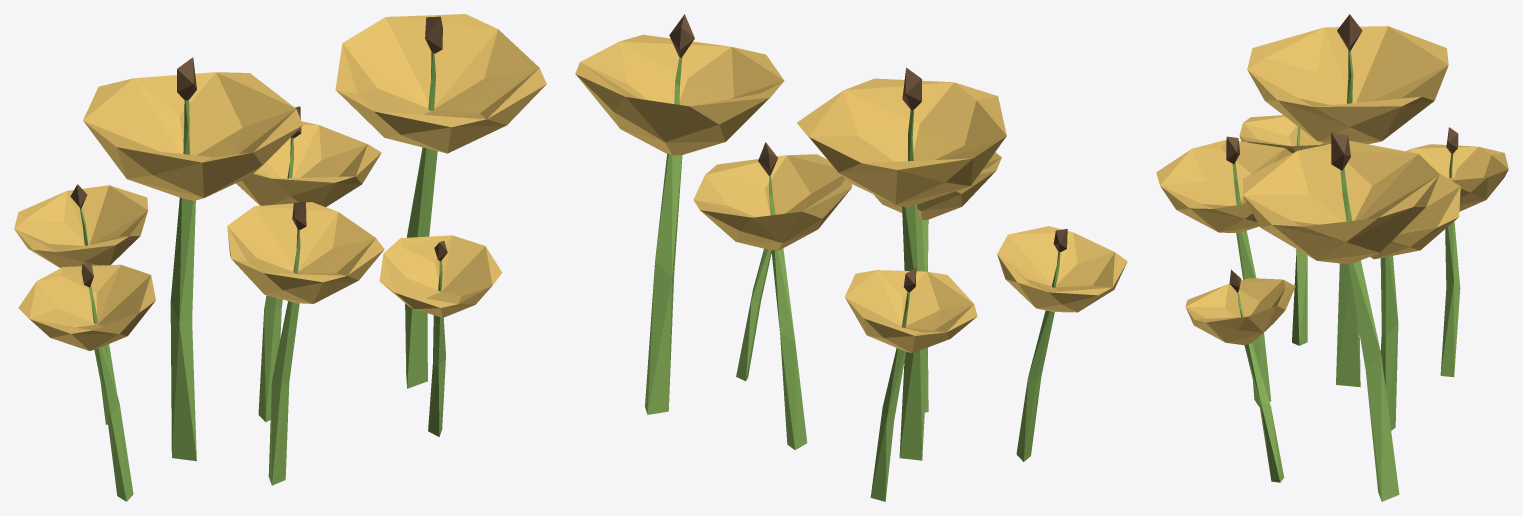
File: Flower_04.fbx
3 views of the same model, side by side, from view 1: azimuth 30°, elevation 25°; view 2: azimuth 150°, elevation 25°; view 3: azimuth 270°, elevation 25° (orthographic). The views are drawn at different scales.
Visible parts, largest first — view 1: Flower_04; view 2: Flower_04; view 3: Flower_04.
Boxes of the visible parts, bbox=[...] form: Flower_04: bbox=[14, 14, 546, 501]; Flower_04: bbox=[575, 14, 1127, 501]; Flower_04: bbox=[1156, 14, 1508, 501].
Bounding box in the file's own units: 0.3219 × 0.2414 × 0.2062.
